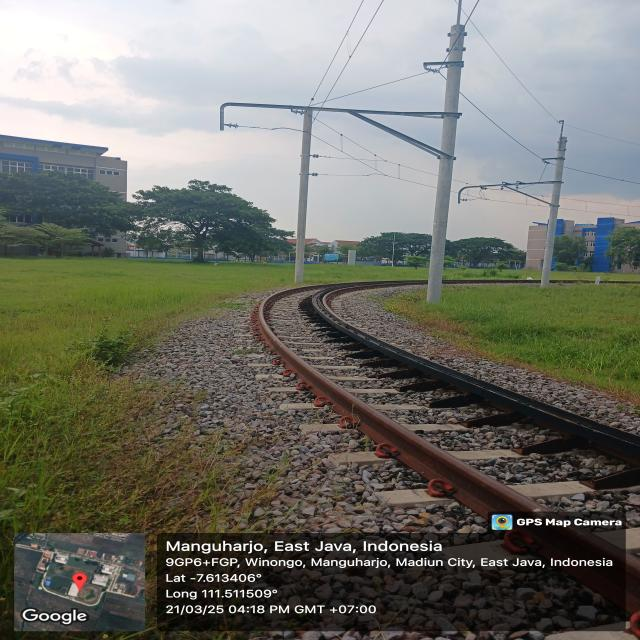rail-detection: (259, 289, 552, 519), (310, 283, 640, 465), (519, 521, 640, 615)
